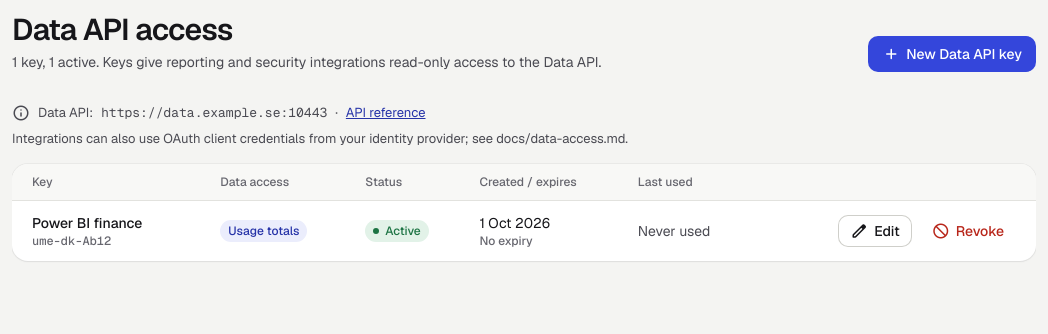
it: Data API access › revokes a key after confirmation
Click the button "Revoke" at point(968, 231), box [920,215,1016,247]
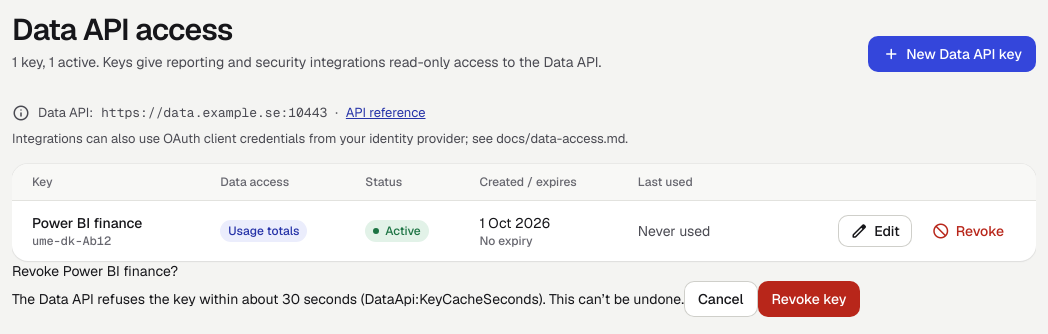
Expected: the text "Revoke Power BI finance?" is shown, [12,262,178,280]
Click the button "Revoke key" at point(809, 298), box [758,280,860,316]
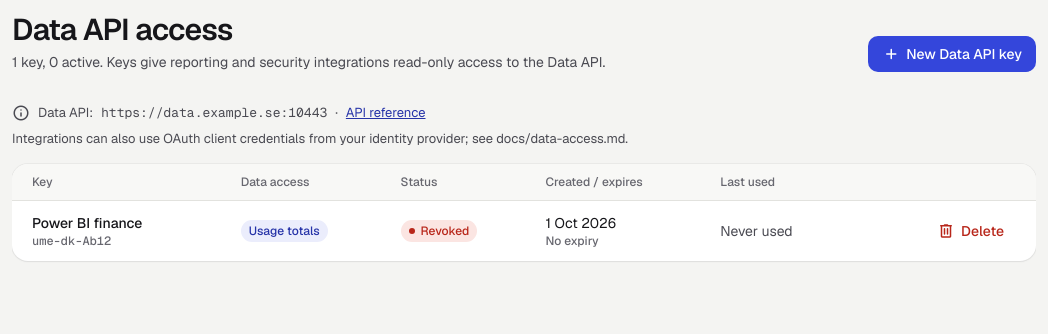
Expected: the row that starts with "Power BI finance" shows "Delete", [925,215,1016,247]
